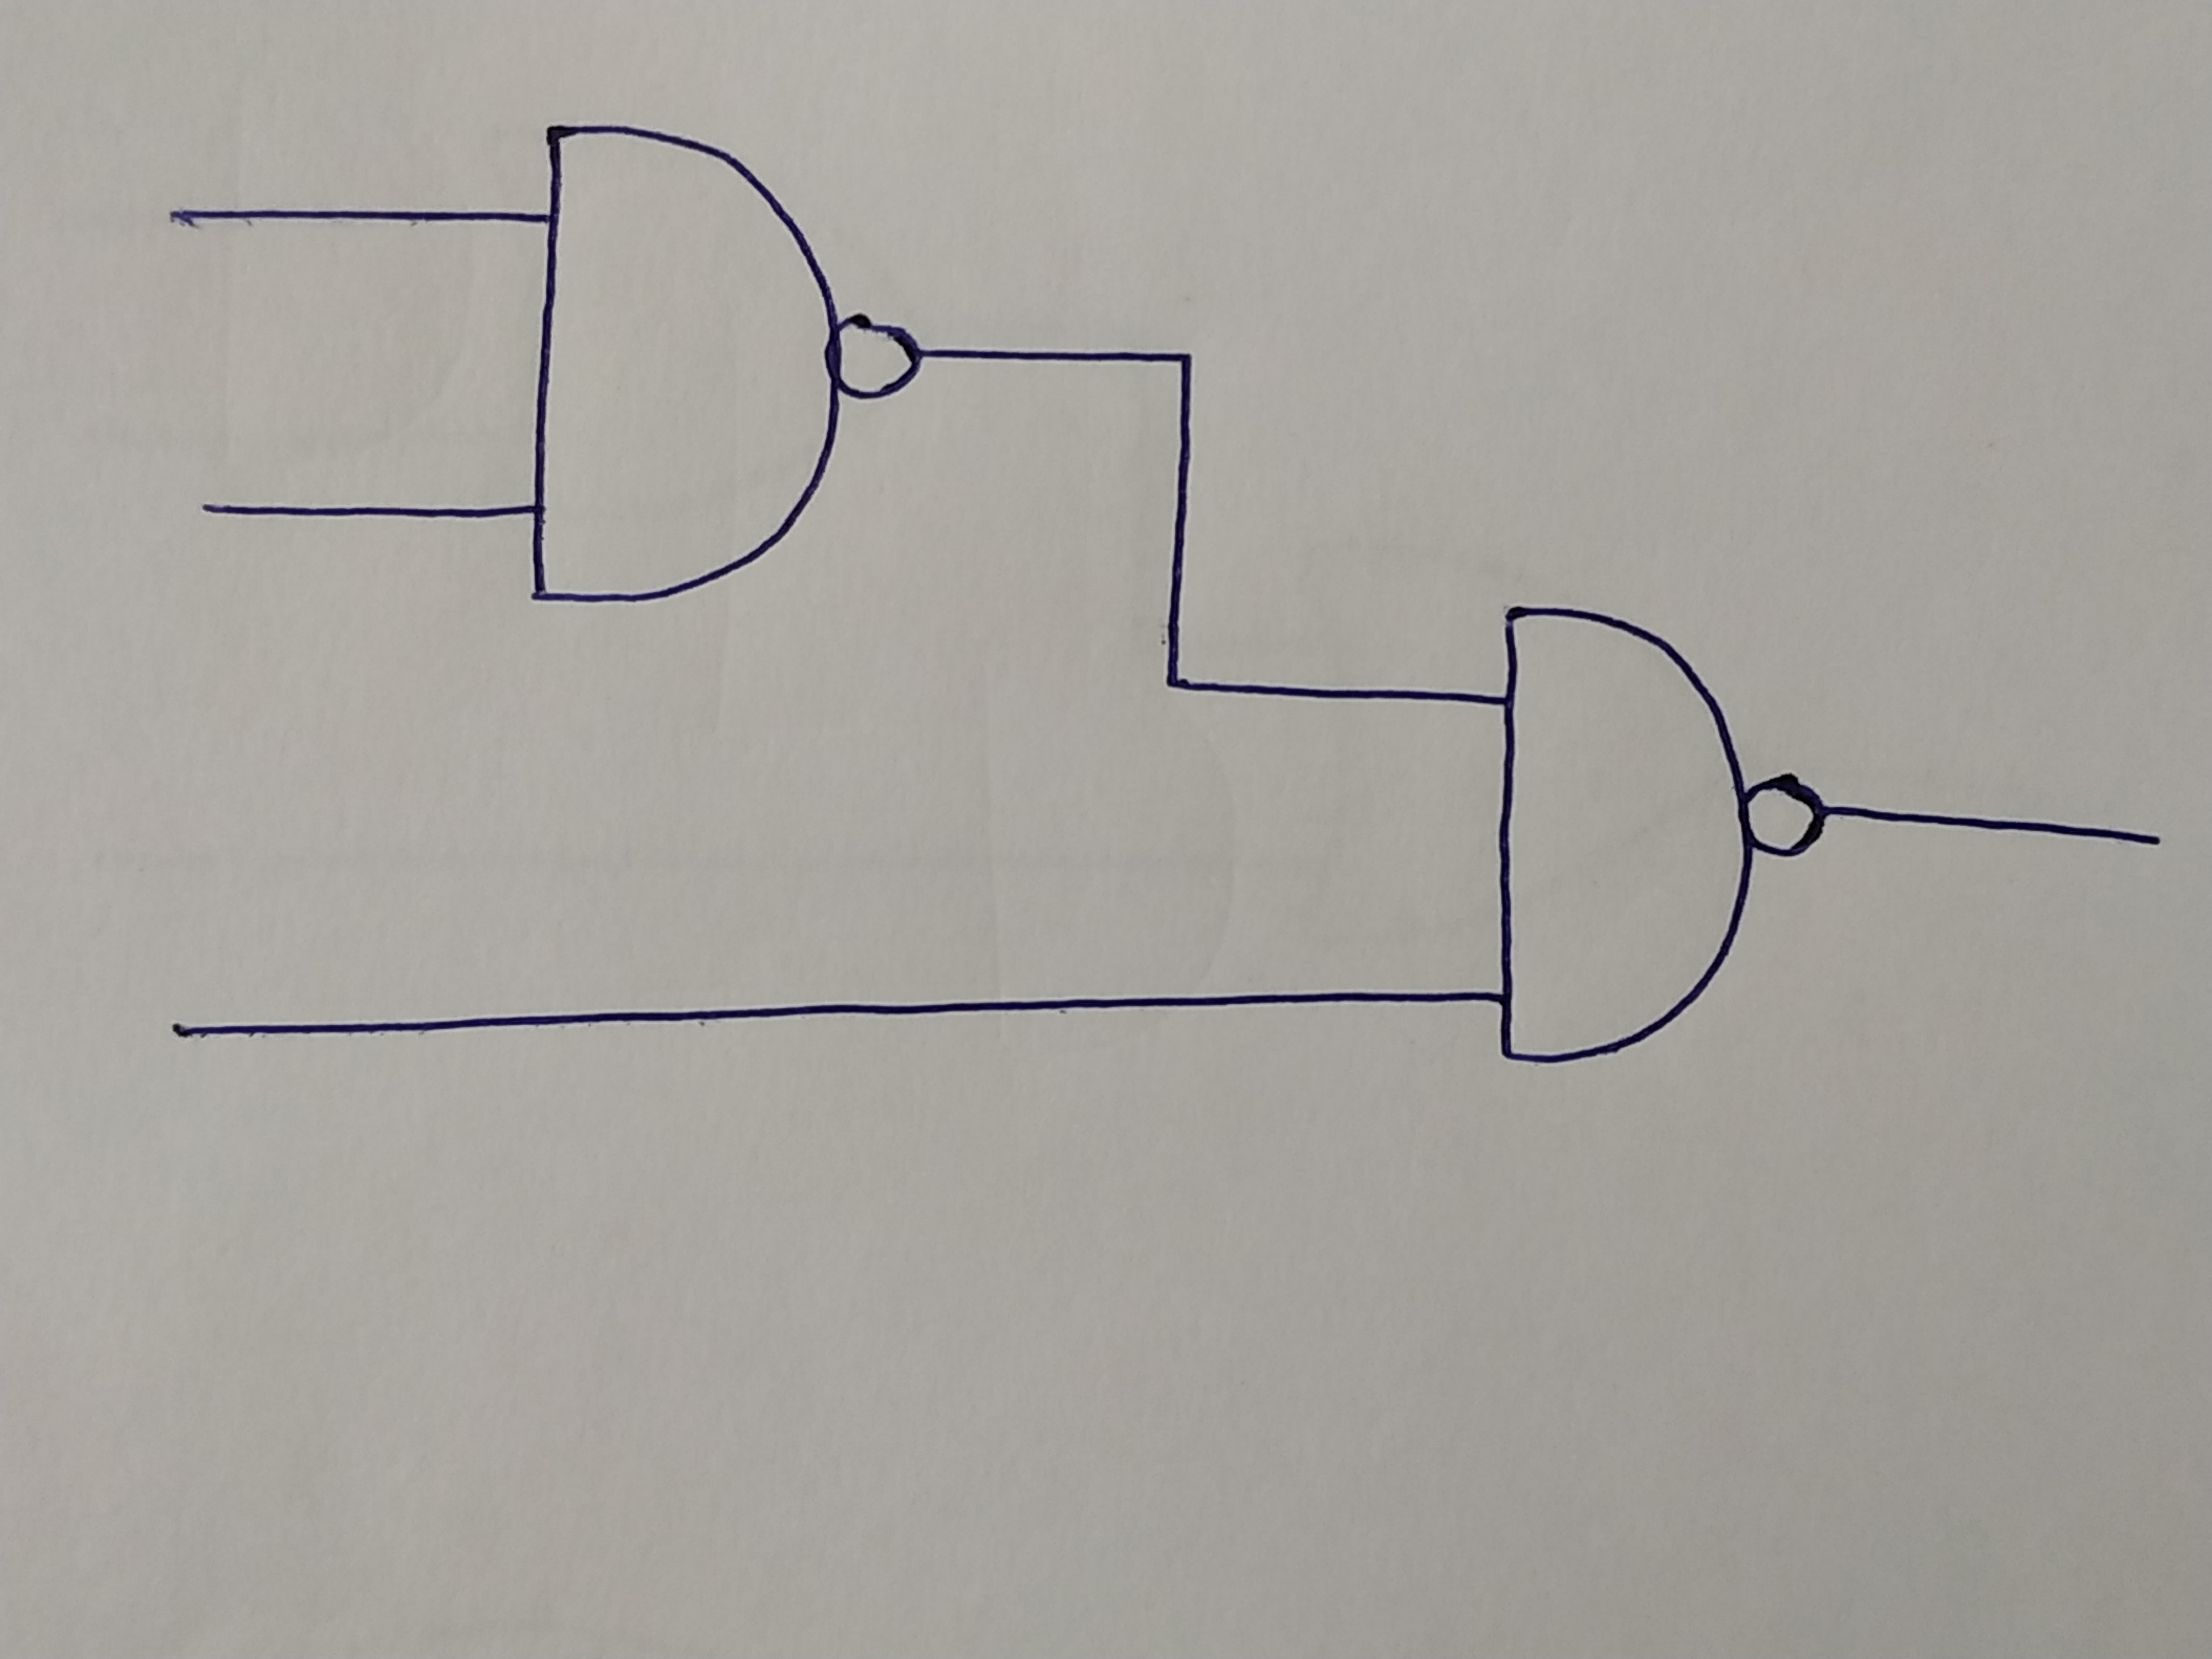and: (540, 117, 840, 605), (1494, 610, 1745, 1063)
not: (836, 314, 921, 394), (1749, 767, 1820, 861)
